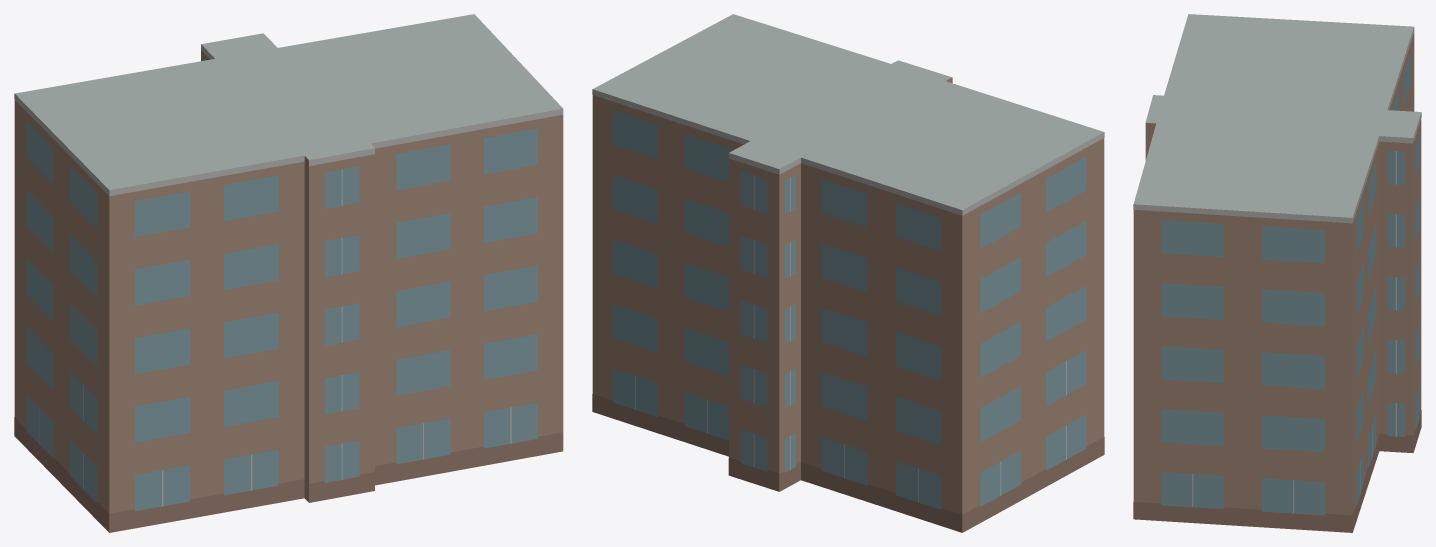
Rendered from survey-upis-32755764.glb.
3 views of the same model, side by side, from view 1: azimuth 30°, elevation 25°; view 2: azimuth 150°, elevation 25°; view 3: azimuth 270°, elevation 25° (orthographic). The views are drawn at different scales.
Visible parts, largest first — view 1: survey-upis-32755764.tmp; view 2: survey-upis-32755764.tmp; view 3: survey-upis-32755764.tmp.
Part boxes in pixels (x1,y1,x2,y2): survey-upis-32755764.tmp: (14,14,563,532); survey-upis-32755764.tmp: (592,14,1104,532); survey-upis-32755764.tmp: (1133,14,1421,532).
Bounding box in the file's own units: 19.44 × 14 × 11.61.
